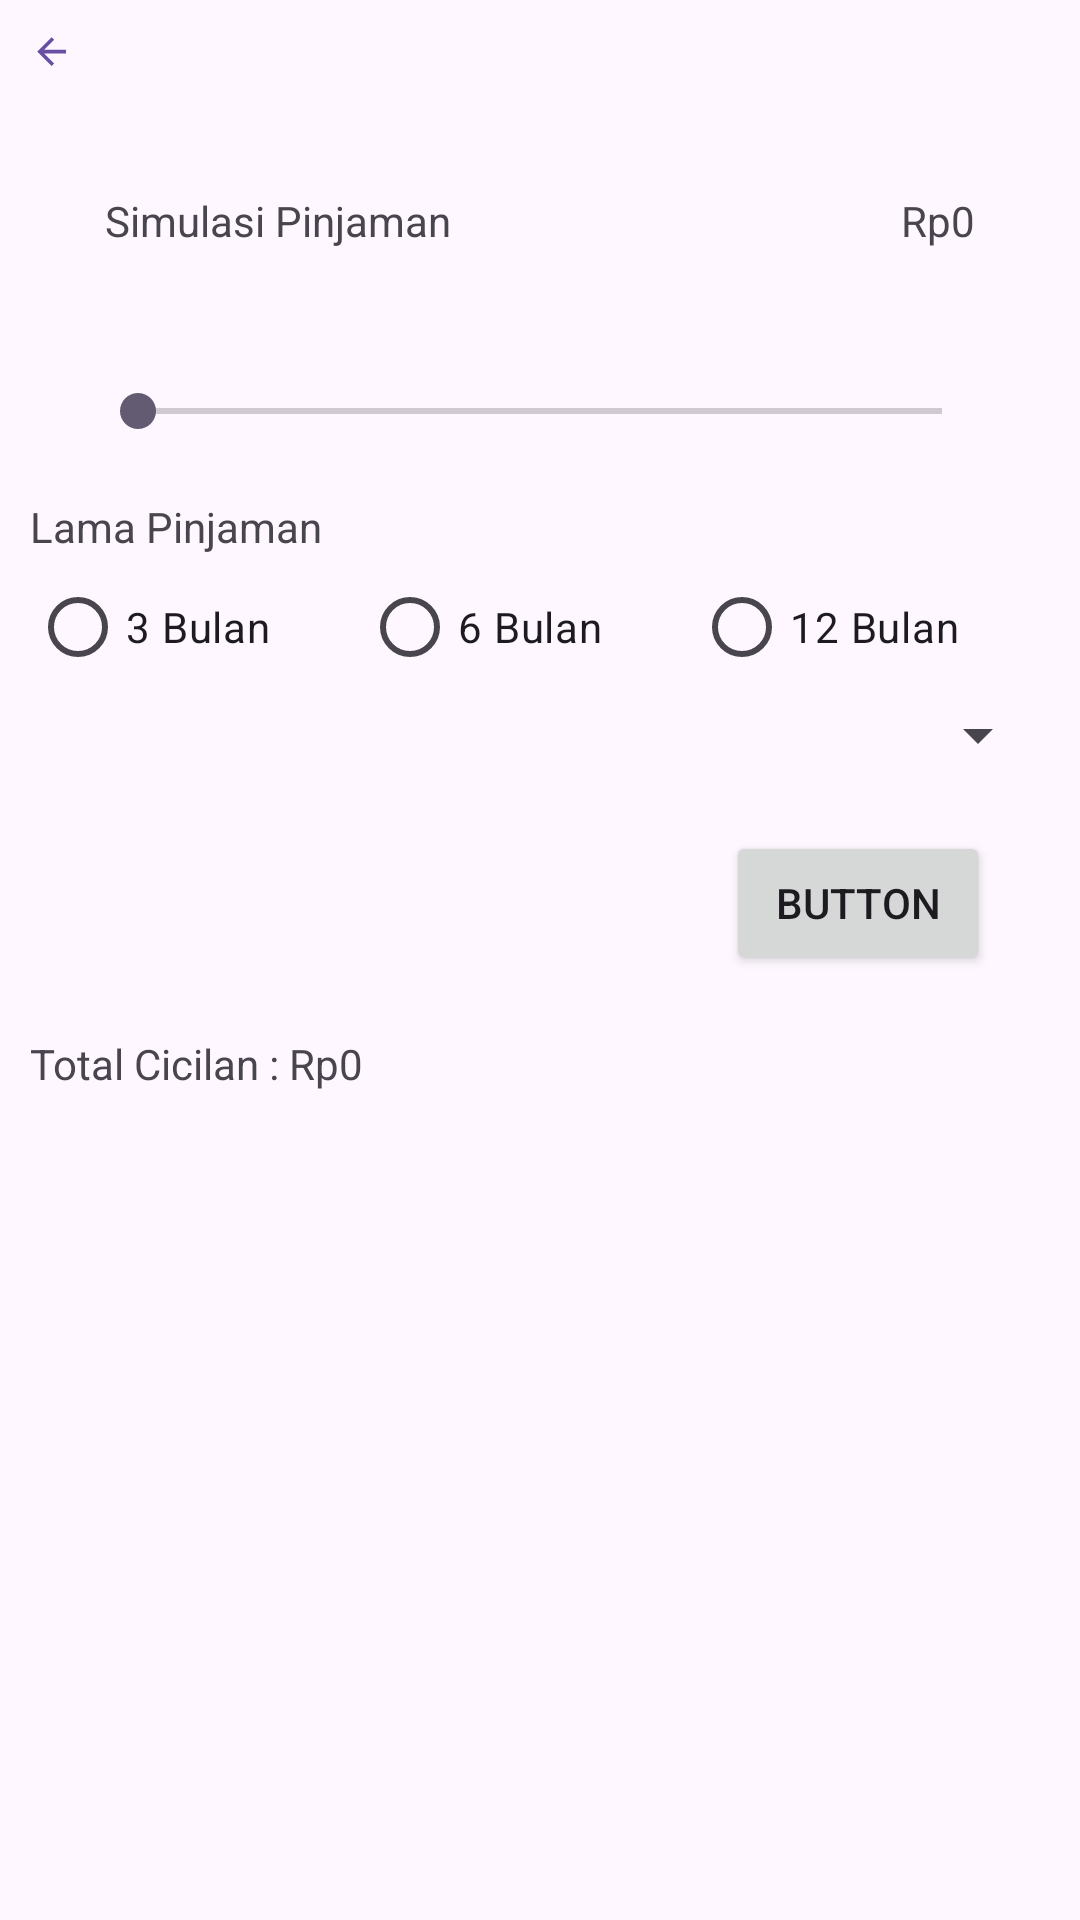

Icons on this 1080px x 1920px Android screen, each with its box as [x1=x1, y1=y1, x2=x2, y2=y2]:
arrow back: [x1=37, y1=37, x2=66, y2=66]
